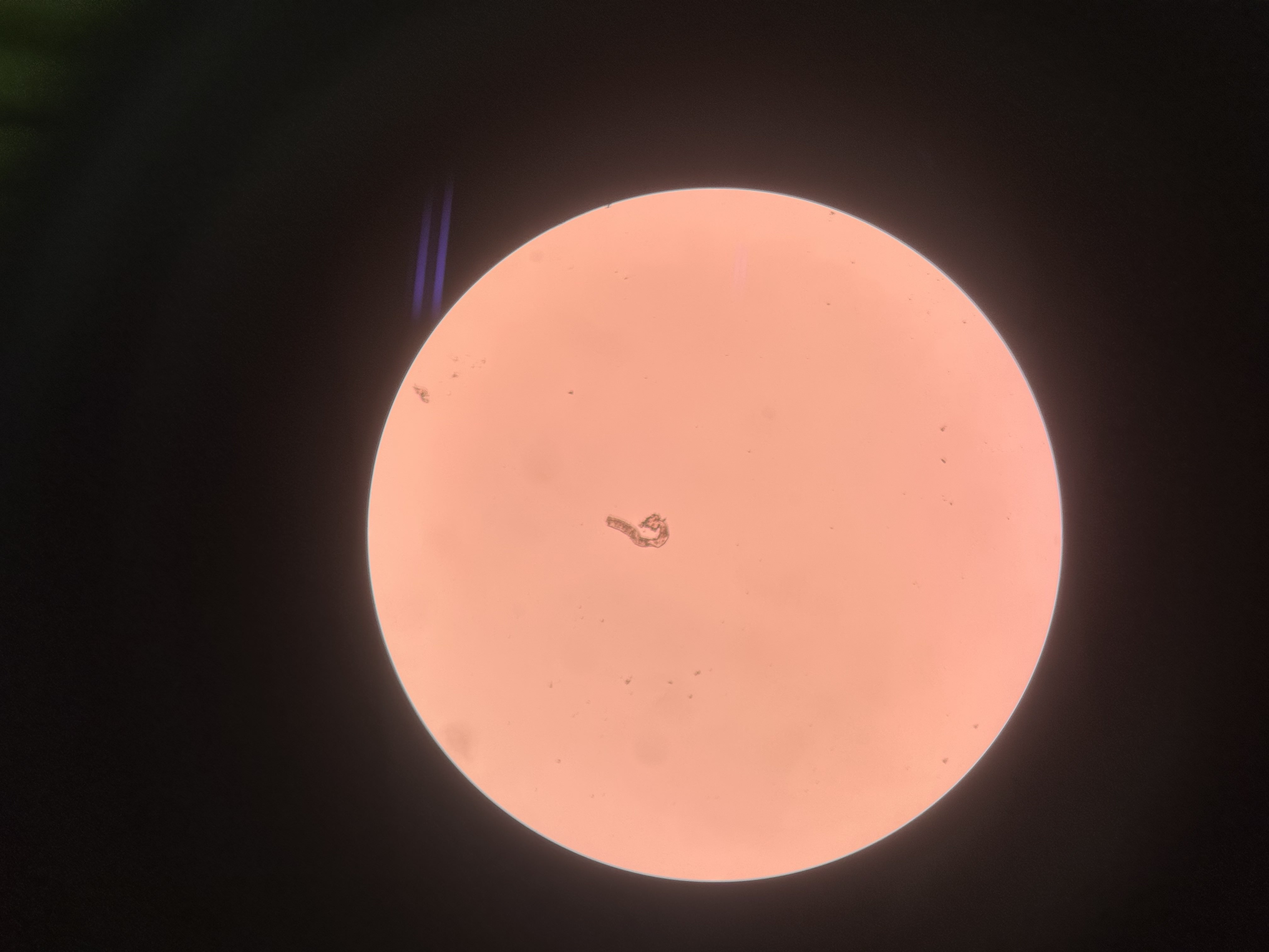microplastic: (601, 506, 674, 549), (414, 383, 431, 400)
